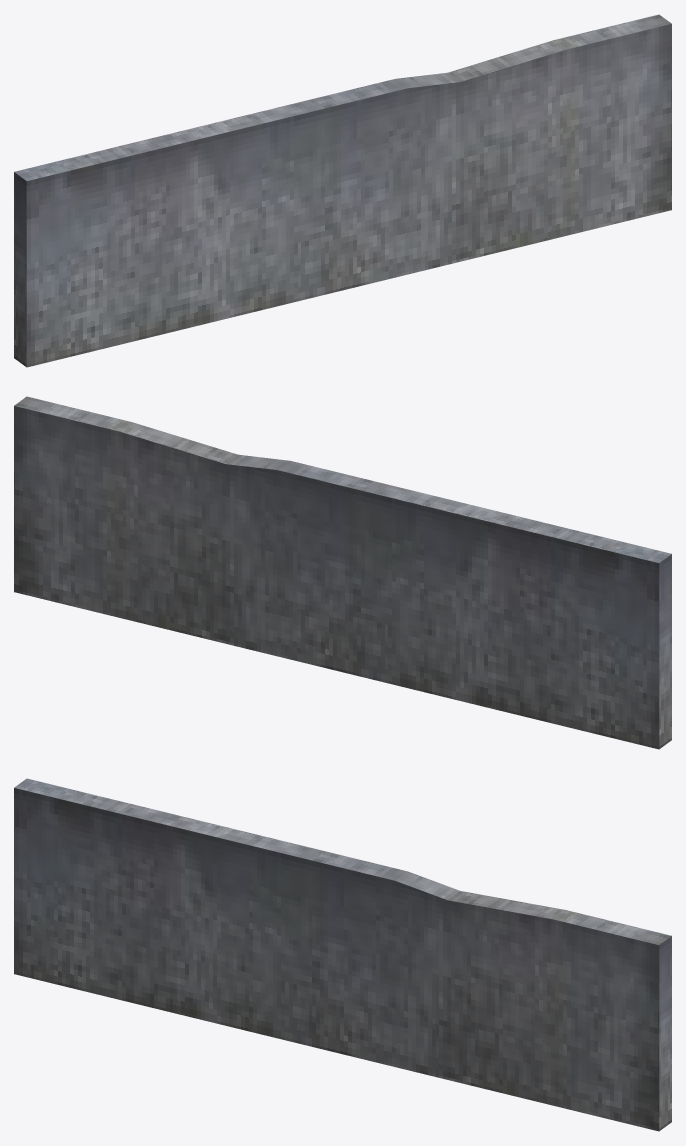
The model's file is lf_plackard_slab_chipped.glb.
3 views of the same model, one above another, from view 1: azimuth 30°, elevation 25°; view 2: azimuth 150°, elevation 25°; view 3: azimuth 330°, elevation 25° (orthographic).
Parts seen in each view (by area): view 1: plackard_slab_chipped; view 2: plackard_slab_chipped; view 3: plackard_slab_chipped.
Boxes of the visible parts, <box> form: plackard_slab_chipped: <box>14,14,671,367</box>; plackard_slab_chipped: <box>14,396,671,749</box>; plackard_slab_chipped: <box>14,778,671,1131</box>.
Size of the model in its own units: 2.9 by 0.8002 by 0.0998.
Materials: 1 (1 with a texture image).
